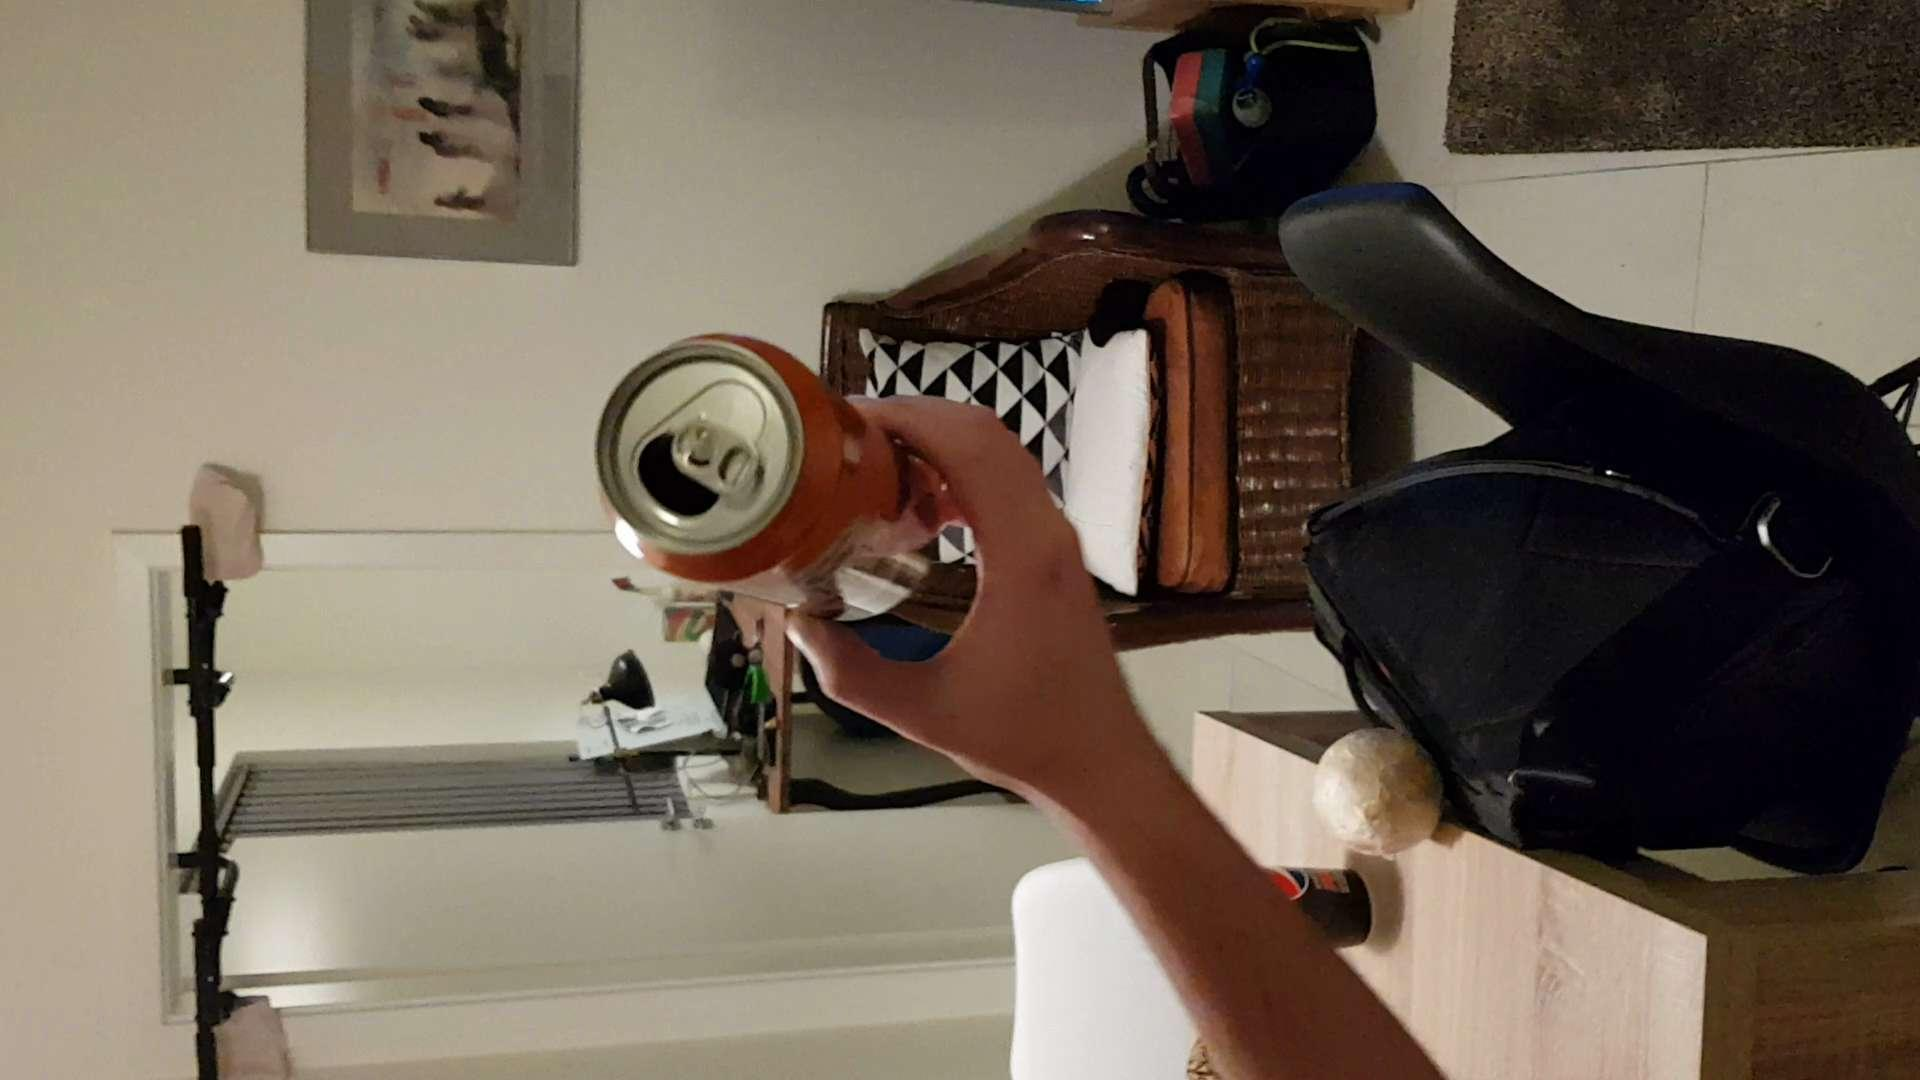can: (578, 316, 870, 597)
